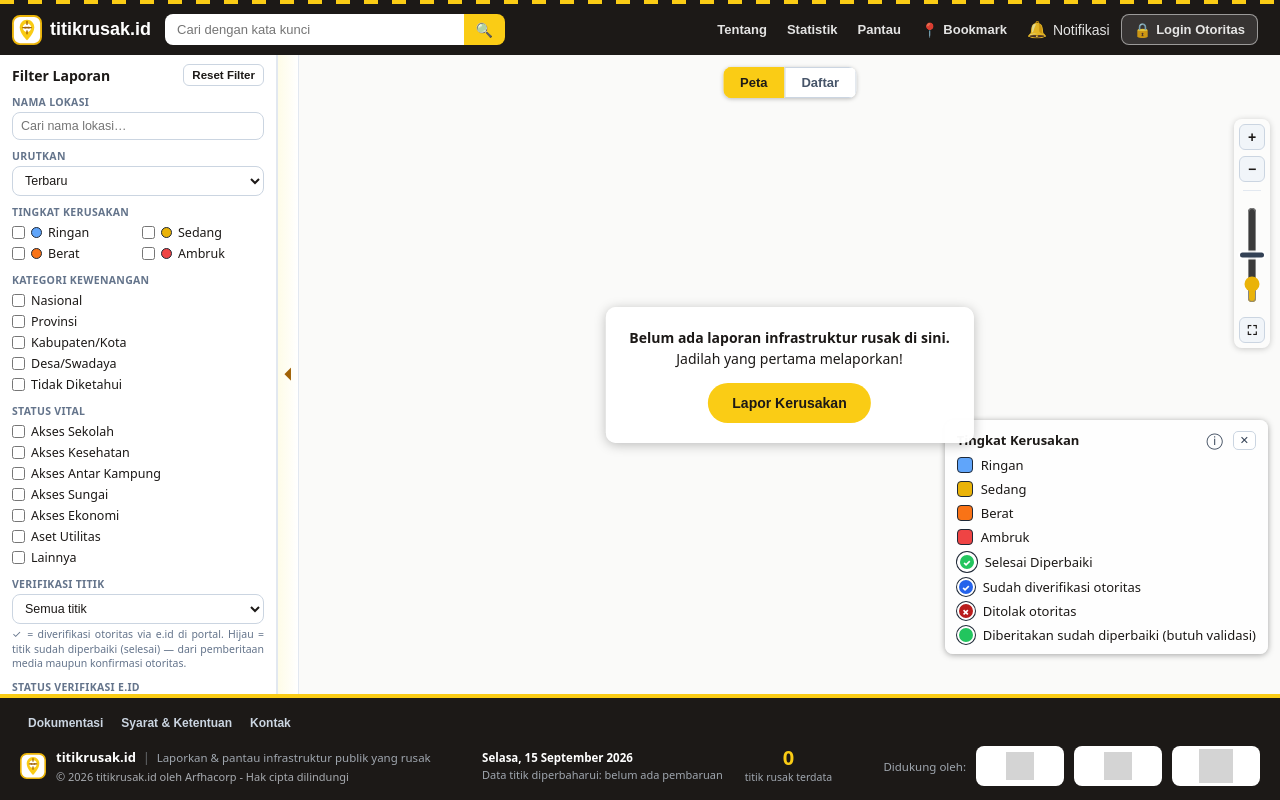
Test: App: alur lapor kerusakan end-to-end › desktop: menu "Login Otoritas" (gembok) membuka halaman Admin (gate)
Step 1. Click the button "🔒 Login Otoritas" → (1189, 30), box [1121,14,1258,45]
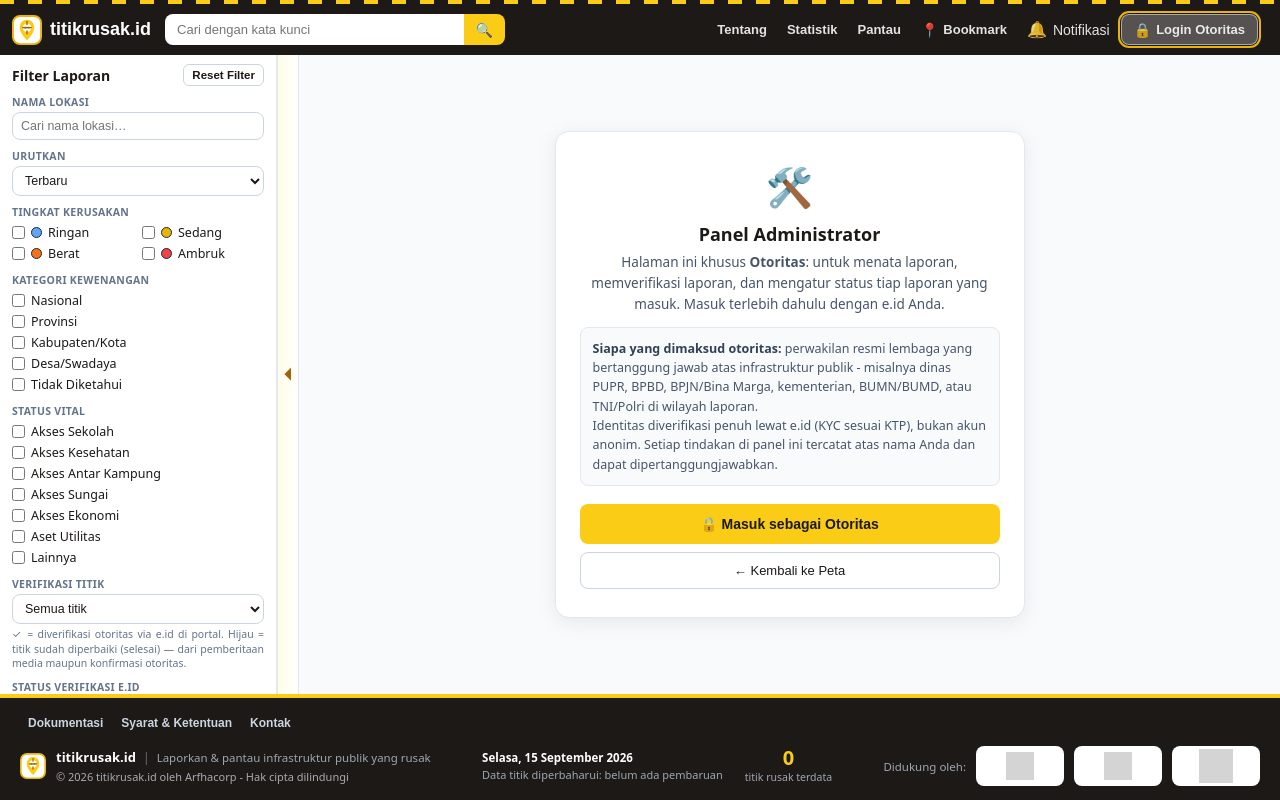
Expected: the heading "Panel Administrator" is shown, [699,222,880,246]
